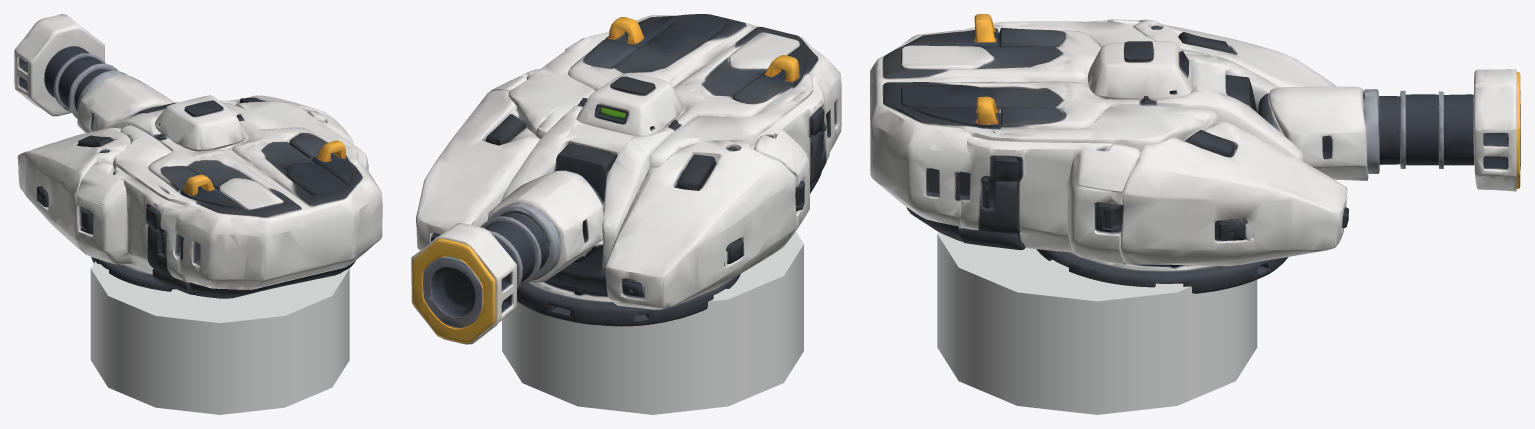
File: cannon.glb
3 views of the same model, side by side, from view 1: azimuth 30°, elevation 25°; view 2: azimuth 150°, elevation 25°; view 3: azimuth 270°, elevation 25° (orthographic). The views are drawn at different scales.
Parts seen in each view (by area): view 1: Body.022, ArmoredMount.012, Barrel.019; view 2: Body.022, ArmoredMount.012, Barrel.019; view 3: Body.022, ArmoredMount.012, Barrel.019.
Part boxes in pixels (bbox=[...]): Body.022: bbox=[17, 70, 382, 298]; ArmoredMount.012: bbox=[90, 261, 349, 414]; Barrel.019: bbox=[14, 14, 118, 118]; Body.022: bbox=[416, 14, 841, 326]; ArmoredMount.012: bbox=[502, 231, 803, 414]; Barrel.019: bbox=[411, 216, 541, 344]; Body.022: bbox=[870, 14, 1395, 293]; ArmoredMount.012: bbox=[937, 232, 1257, 414]; Barrel.019: bbox=[1396, 69, 1520, 191].
Size of the model in its own units: 1.03 by 0.8827 by 1.75.
3 materials, 1 textured.
